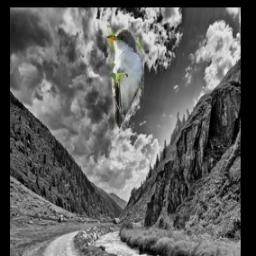Cuckoo: (106, 28, 143, 129)
